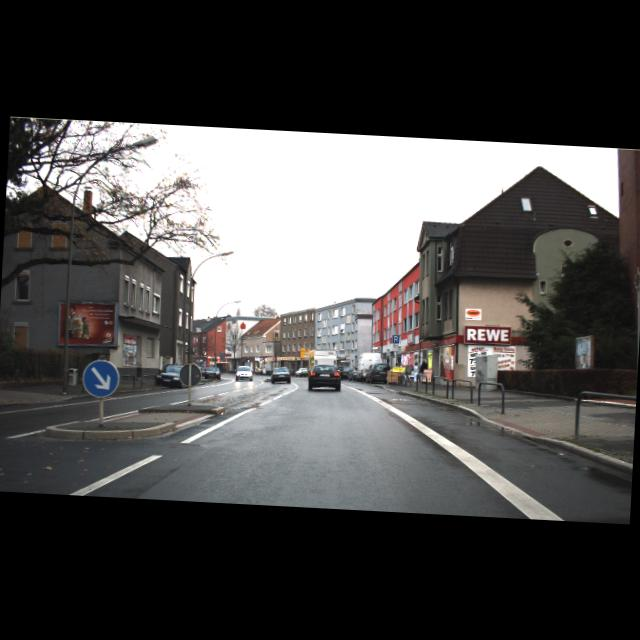mandatory: (82, 358, 120, 397)
